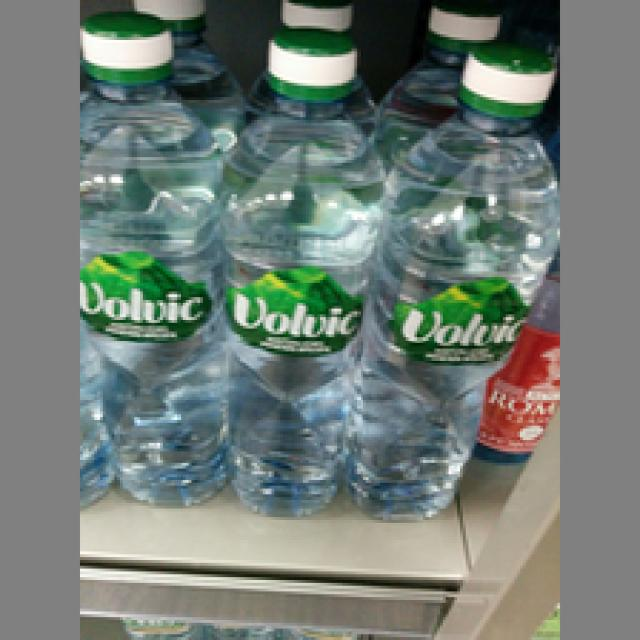groceries: (352, 40, 554, 520), (223, 26, 380, 514), (77, 11, 223, 500)
